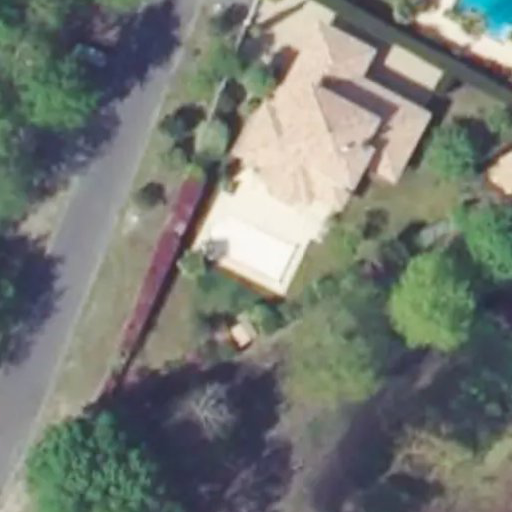pool: (203, 237, 300, 241)
